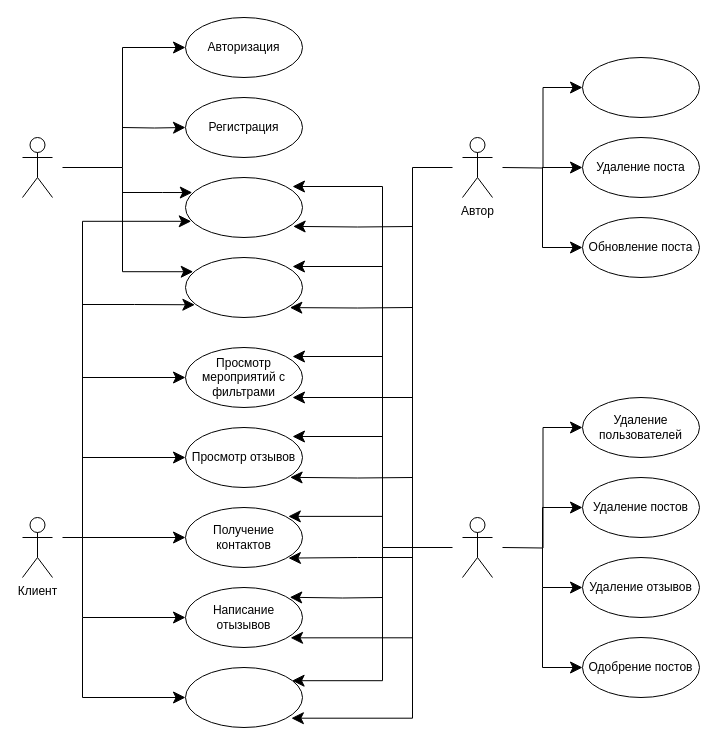
Some shapes in this 717 by 748 pixel diagram are drawn without their labels. The shapes that lost their labels are listed below. From the top down, each one's centre as x and y in pixels, then its label:
point (641, 87): Добавление поста
point (37, 167): Гость
point (243, 207): Просмотр мероприятий
point (243, 287): Просмотр пользователей
point (477, 547): Модеретор
point (243, 697): Обновление профиля
